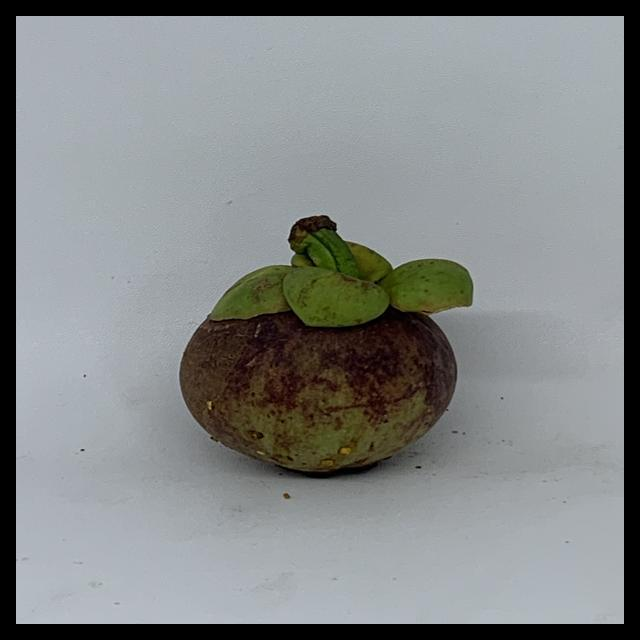mangosteen: (179, 182, 492, 484)
